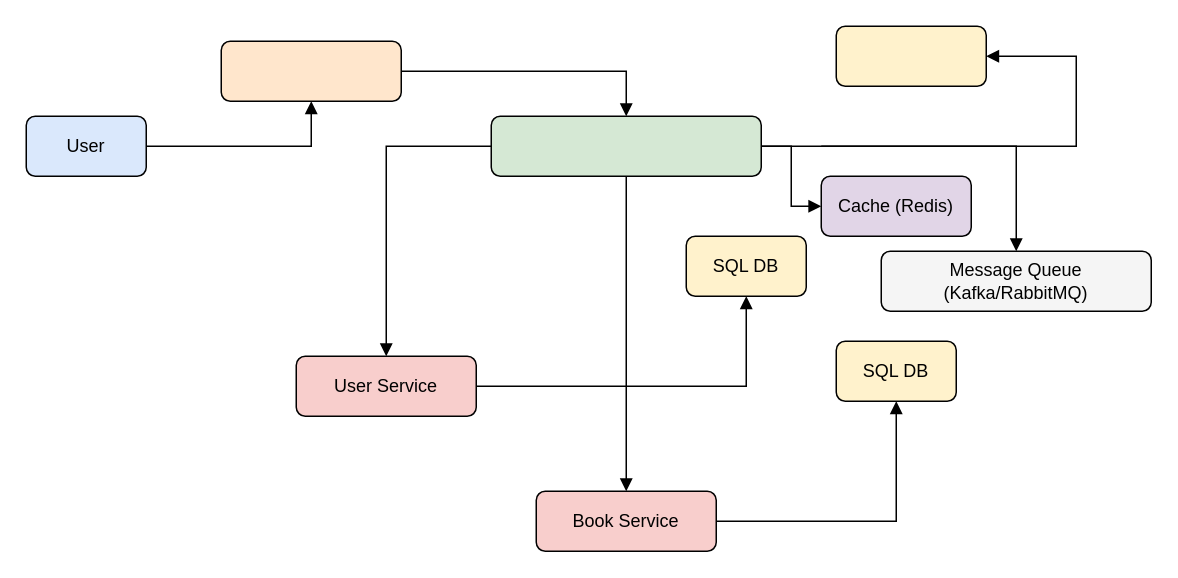
The diagram is 1178 pixels wide and 578 high, and some of its shapes have lost their labels. Each missing label, with the centre of its shape:
"API Gateway" belongs at pixel 310 70.
"NoSQL DB" belongs at pixel 910 55.
"Recommendation Service" belongs at pixel 625 145.
